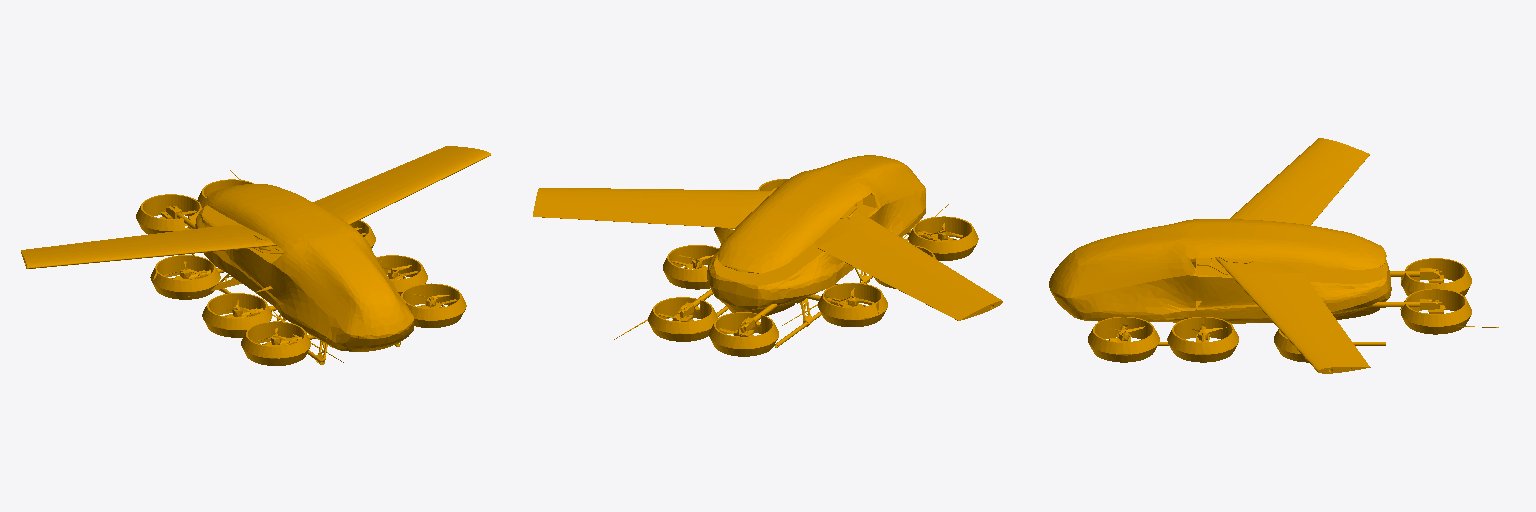
URDF robot description (afa):
<?xml version="1.0"?>
<robot name="afa">

  <link name="bintel">
    <visual>
      <origin rpy="0.0 0 1.5707" xyz="0 0 0.008"/>
      <geometry>
        <mesh filename="package://bintel_ros/meshes/afa.stl"/>
      </geometry>
    </visual>
  </link>
  
</robot>

--- Facts derived from the render (not from the file) ---
3 views of the same robot in one strip: view 1: azimuth 30°, elevation 25°; view 2: azimuth 150°, elevation 25°; view 3: azimuth 270°, elevation 25° (orthographic).
Robot: afa — 1 links, 0 joints (none); root link bintel; default pose: all joints at 0.
Links seen in each view (by area): view 1: bintel; view 2: bintel; view 3: bintel.
Boxes of the visible links, left/top/right/bottom form: bintel: left=21, top=146, right=490, bottom=365; bintel: left=533, top=155, right=1002, bottom=356; bintel: left=1049, top=138, right=1498, bottom=373.
Size in the robot's own frame: 4.65 by 3.98 by 0.9083 metres.
1 mesh visuals loaded from 1 distinct referenced files (1 binary STL).